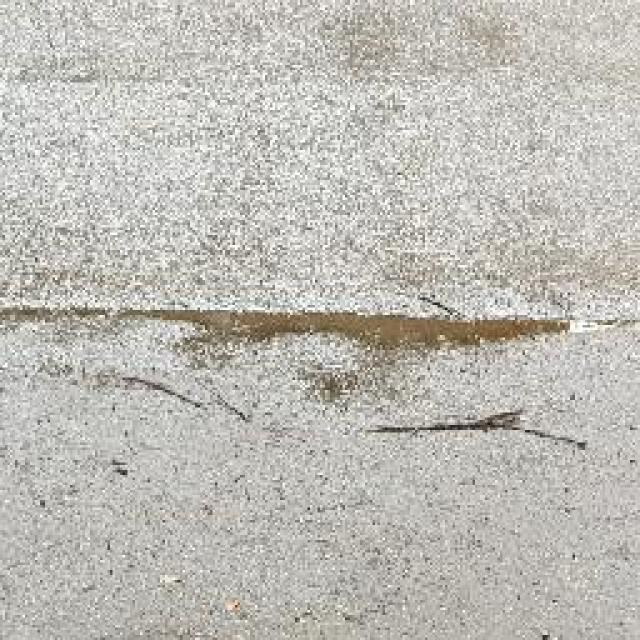stagnation: (160, 290, 580, 364)
